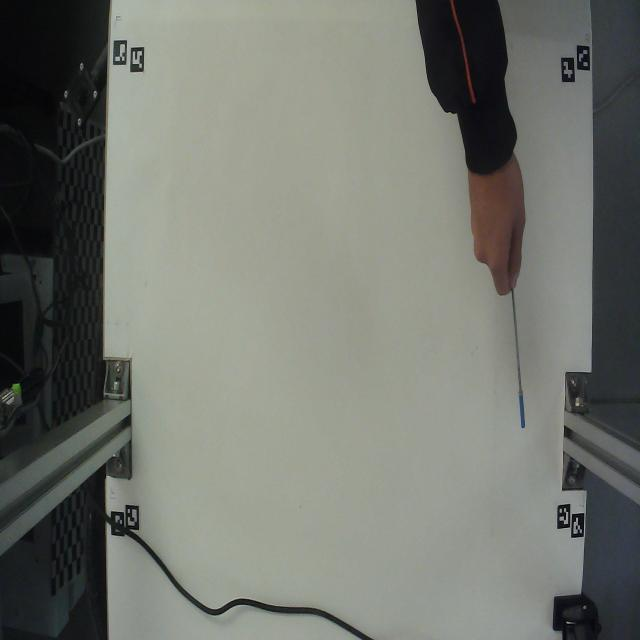NoPres: (506, 277, 534, 452)
